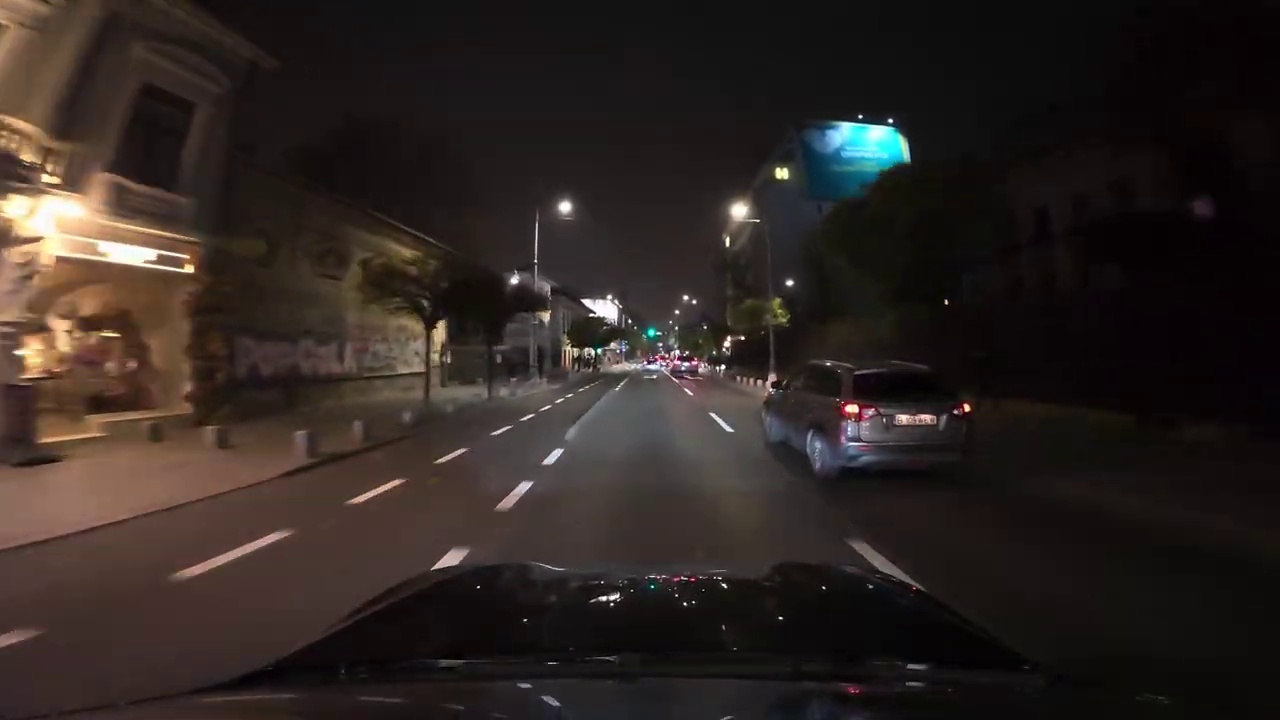acesa: (725, 198, 752, 223), (553, 196, 577, 221), (770, 164, 796, 186)
